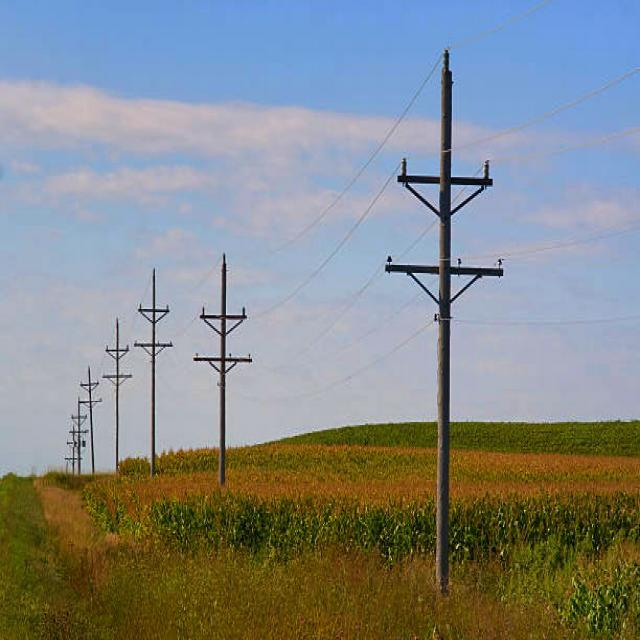crossarm: (397, 158, 493, 224), (385, 257, 504, 307)
pole: (437, 68, 453, 596)
wire: (504, 223, 640, 261), (454, 313, 640, 328)
